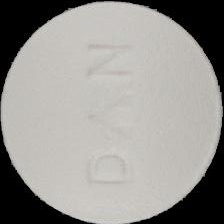0904-7809: (0, 0, 224, 224)
